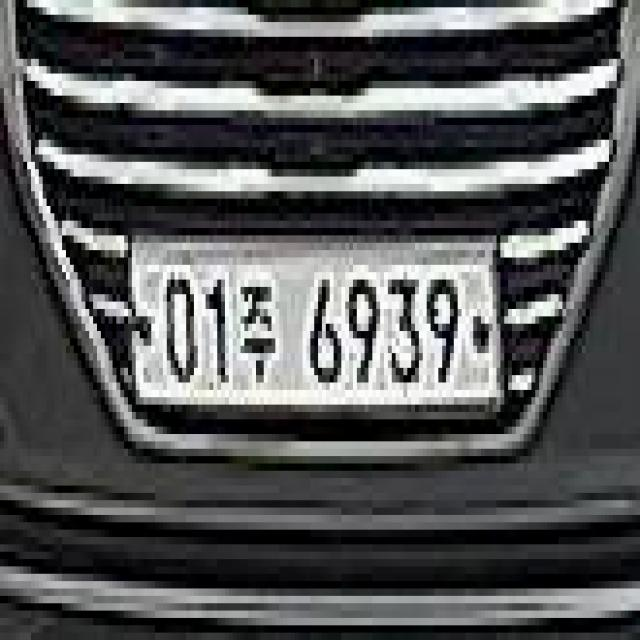illegal_plate: (130, 220, 506, 432)
